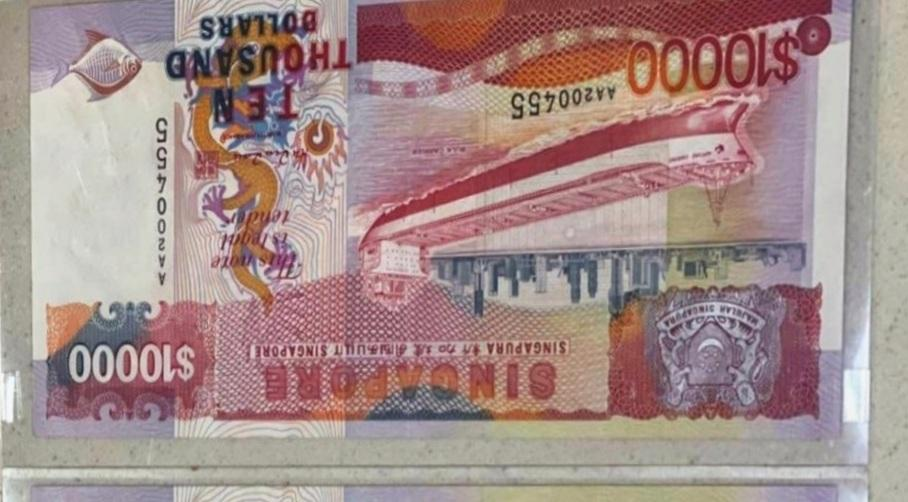10000SingaporeDollar: (32, 0, 840, 436)
